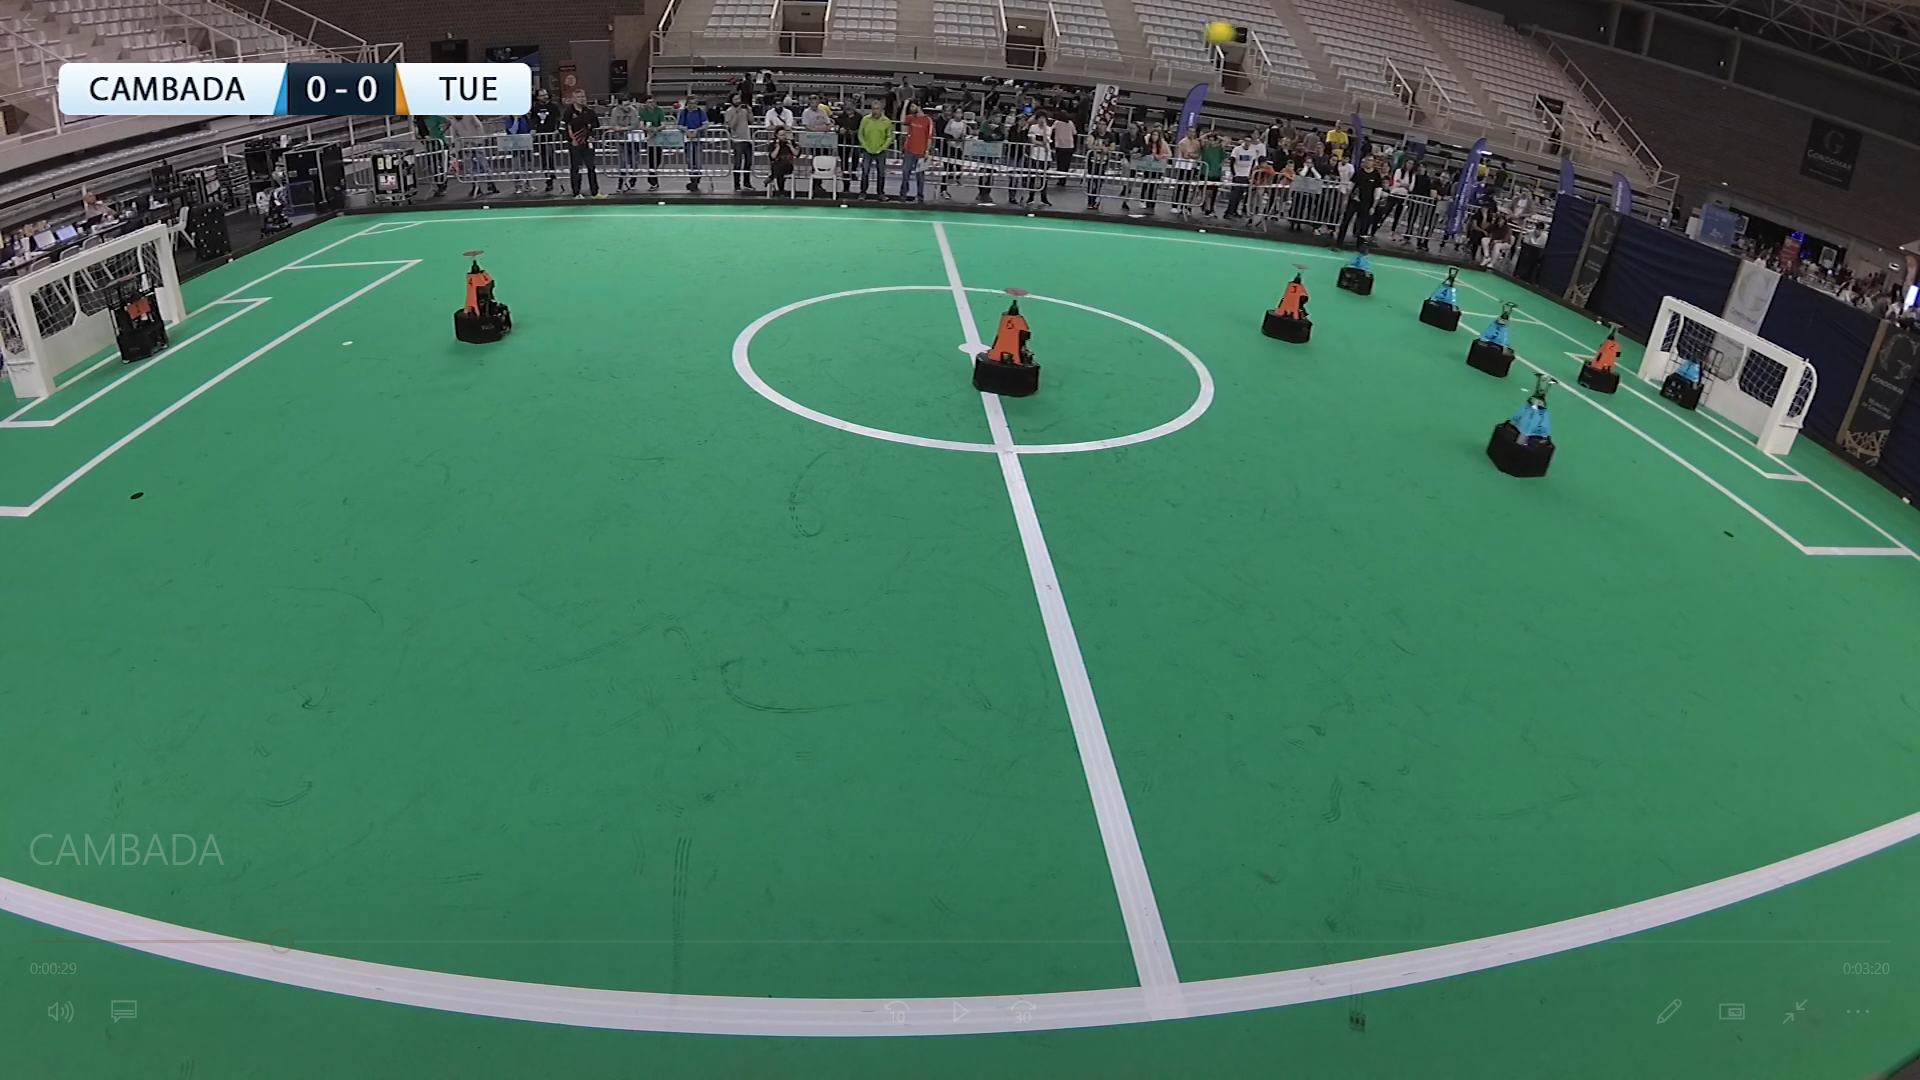BLUE2: (1509, 398, 1551, 448)
BLUE3: (1484, 315, 1509, 355)
BLUE4: (1429, 276, 1457, 324)
BLUE5: (1346, 249, 1369, 277)
B_Goalie: (1667, 349, 1704, 400)
RED2: (1594, 330, 1619, 378)
RED3: (1267, 262, 1319, 338)
RED4: (462, 255, 500, 315)
RED6: (976, 294, 1035, 396)
R_Goalie: (105, 274, 166, 356)
